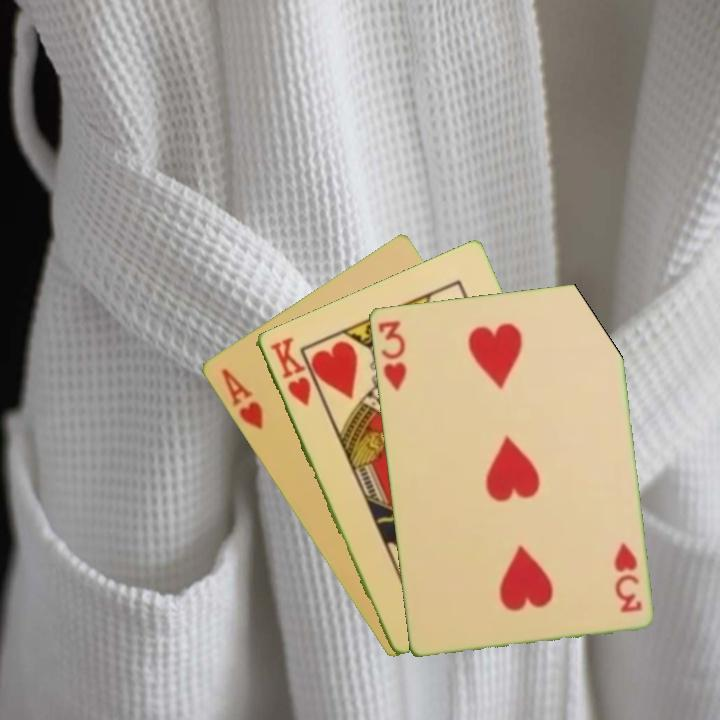3h: (373, 316, 409, 394), (610, 538, 644, 615)
Ah: (217, 364, 266, 433)
Kh: (266, 333, 314, 409)
